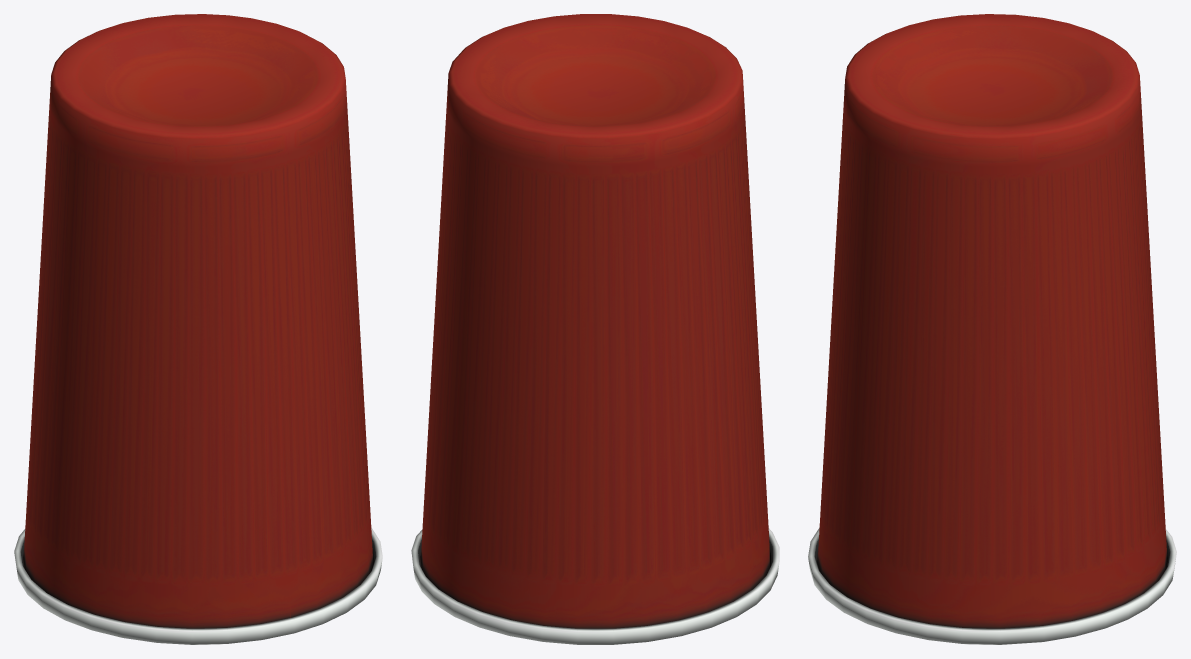
The picture shows the model from 3 angles, left to right: view 1: azimuth 30°, elevation 25°; view 2: azimuth 150°, elevation 25°; view 3: azimuth 270°, elevation 25°; orthographic projection.
Parts seen in each view (by area): view 1: Plastic Cup; view 2: Plastic Cup; view 3: Plastic Cup.
Boxes of the visible parts, x1,y1,x2,y2 form: Plastic Cup: [14, 14, 382, 644]; Plastic Cup: [411, 14, 779, 644]; Plastic Cup: [808, 14, 1176, 644].
Bounding box in the file's own units: 1.54 × 2.29 × 1.54.
1 material, 1 textured.
